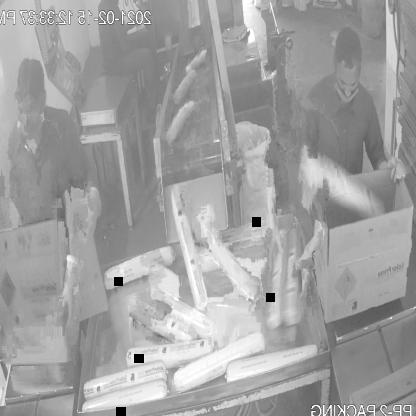glove: (74, 178, 102, 250), (372, 151, 408, 194)
no_glove: (116, 9, 152, 68)
